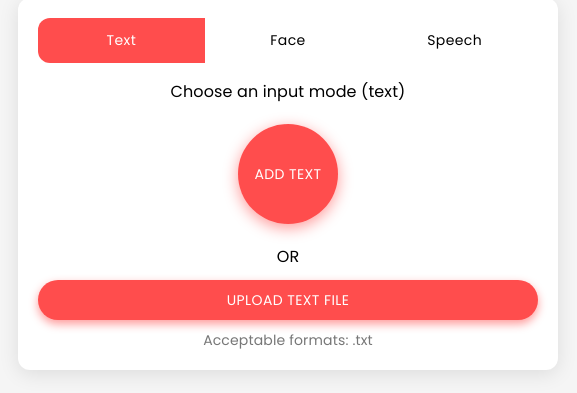
Test: <HomePage /> › switches to face mode when Face tab clicked
Note: Click the Face tab
Click the button "Face". click: (288,40)
box: 205,18 -> 371,62
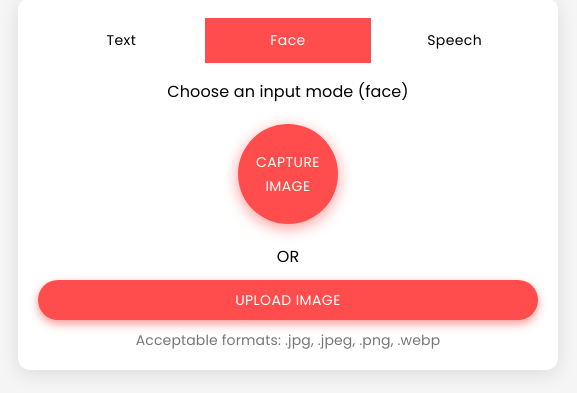
Expected: the heading "Choose an input mode (face)" is shown, 167,80 -> 409,102
